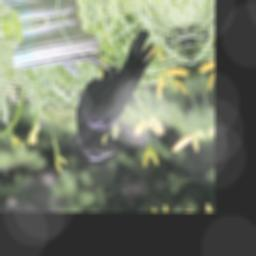Crow: (57, 25, 179, 164)
